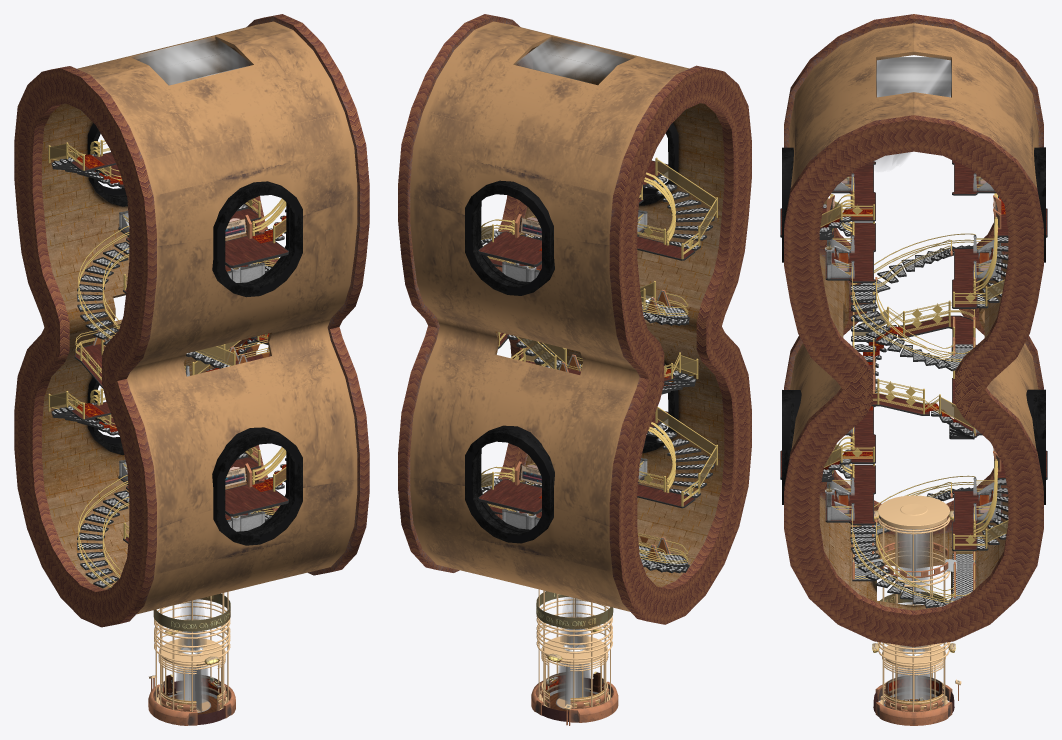
File: central_spire.glb
3 views of the same model, side by side, from view 1: azimuth 30°, elevation 25°; view 2: azimuth 150°, elevation 25°; view 3: azimuth 270°, elevation 25° (orthographic). The views are drawn at different scales.
Visible parts, largest first — view 1: Tower_Station_01_Art; view 2: Tower_Station_01_Art; view 3: Tower_Station_01_Art.
Boxes of the visible parts, x1,y1,x2,y2 form: Tower_Station_01_Art: (14, 14, 369, 725); Tower_Station_01_Art: (398, 14, 751, 725); Tower_Station_01_Art: (780, 14, 1047, 725).
Bounding box in the file's own units: 14.97 × 42.34 × 16.
11 materials, 11 textured.
